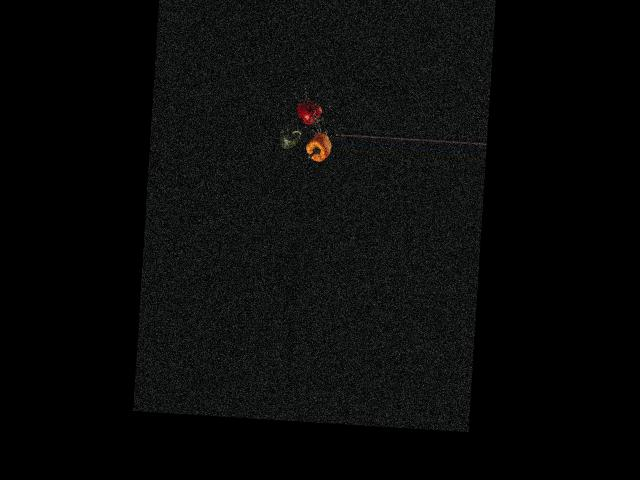bell_pepper: (290, 98, 328, 130)
